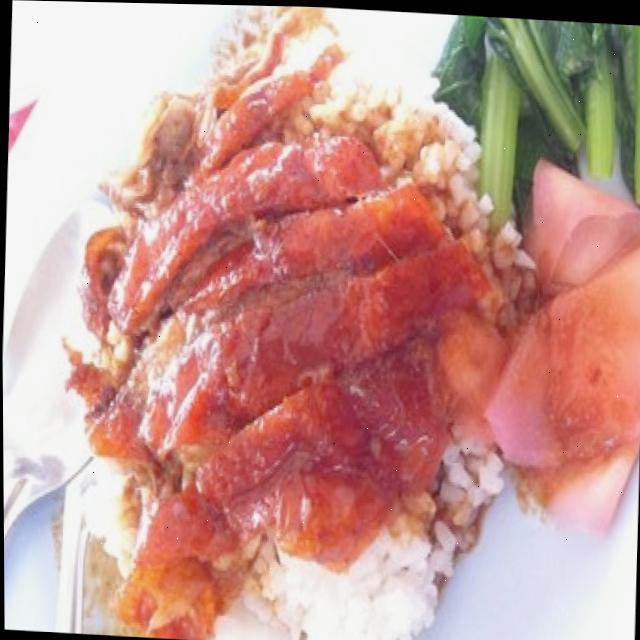米饭主食: (54, 1, 551, 640)
